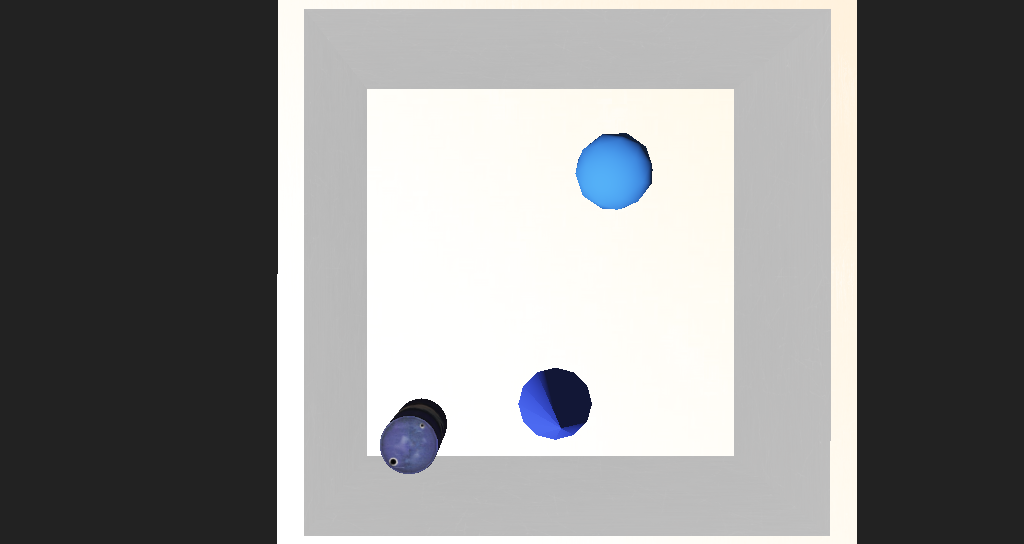cone: (364, 341, 418, 384)
cylinder: (482, 327, 542, 379)
sphere: (529, 186, 589, 234)
